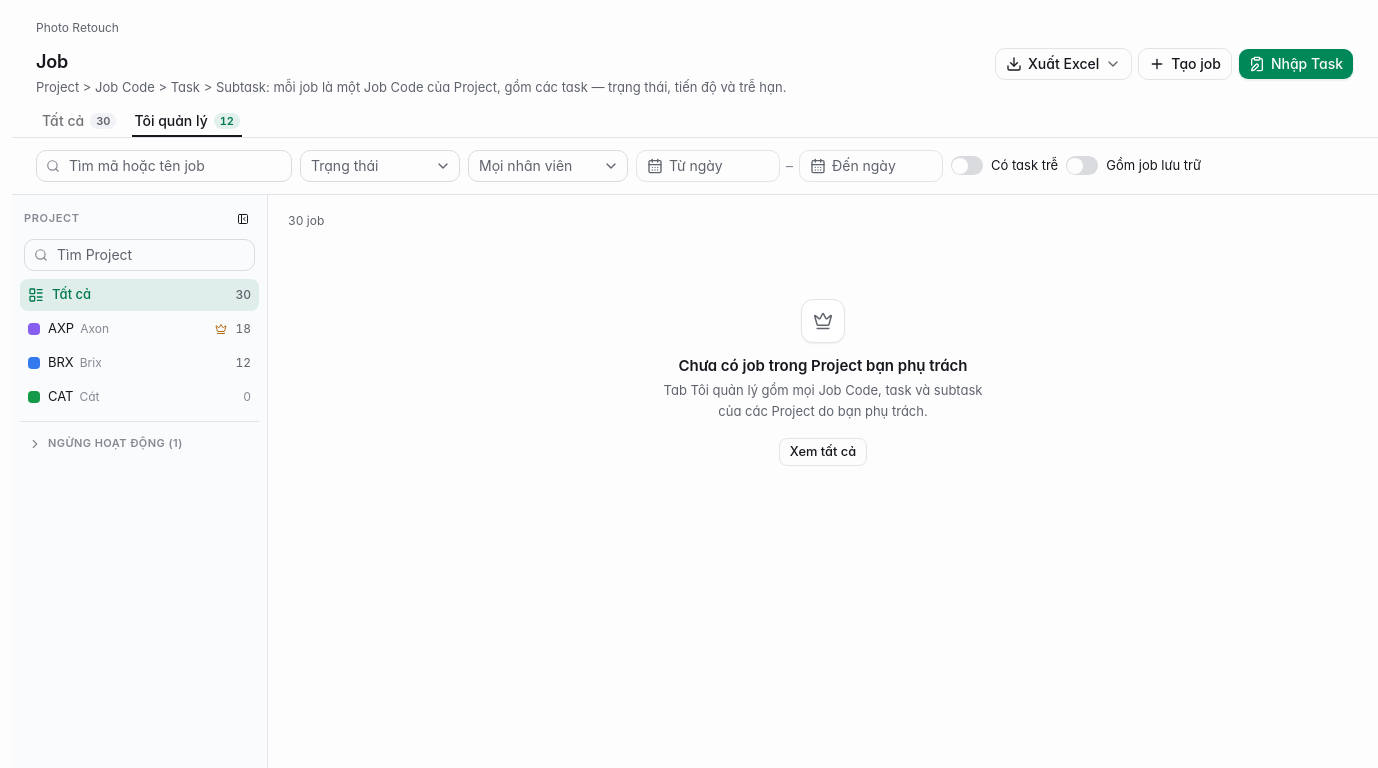
Test: /production/jobs — Tất cả / Tôi quản lý = the Projects I own (PD-073, PD-078) › an empty Tôi quản lý says so and offers Tất cả
The image size is (1378, 768).
Expected: the heading "Chưa có job trong Project bạn phụ trách" is shown, [655,355,991,376]
What coordinates should you click on to do the following:
click the button "Xem tất cả"
I would click on:
 (823, 452)
Its box is [779,438,867,466].
(page scrolled)
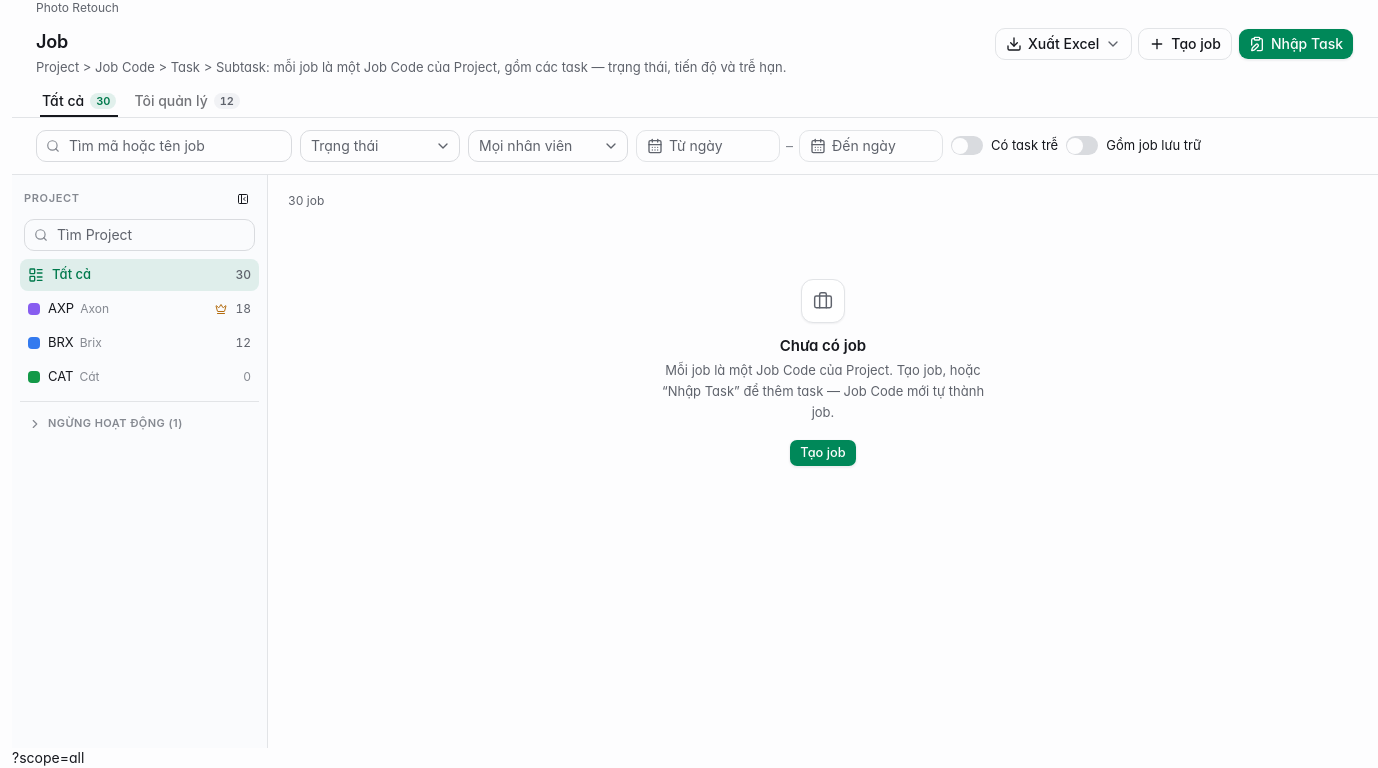
Now the text with test id "location" reads "?scope=all", box [12,749,84,766]
